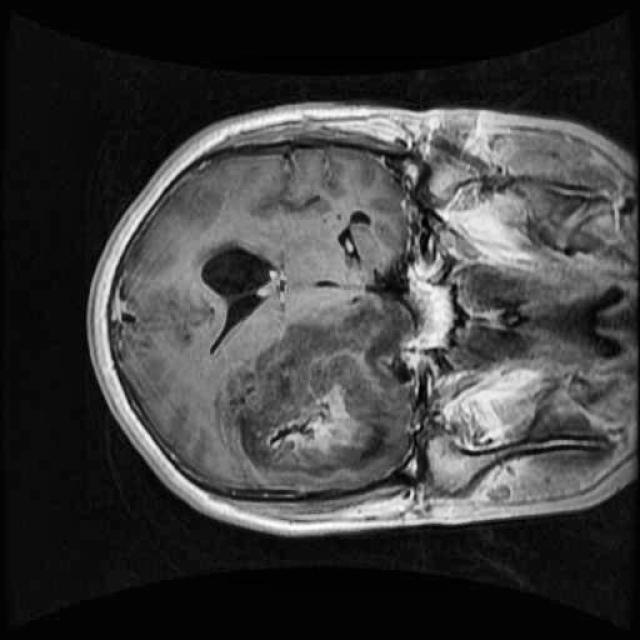Tumor: (203, 278, 438, 504)
